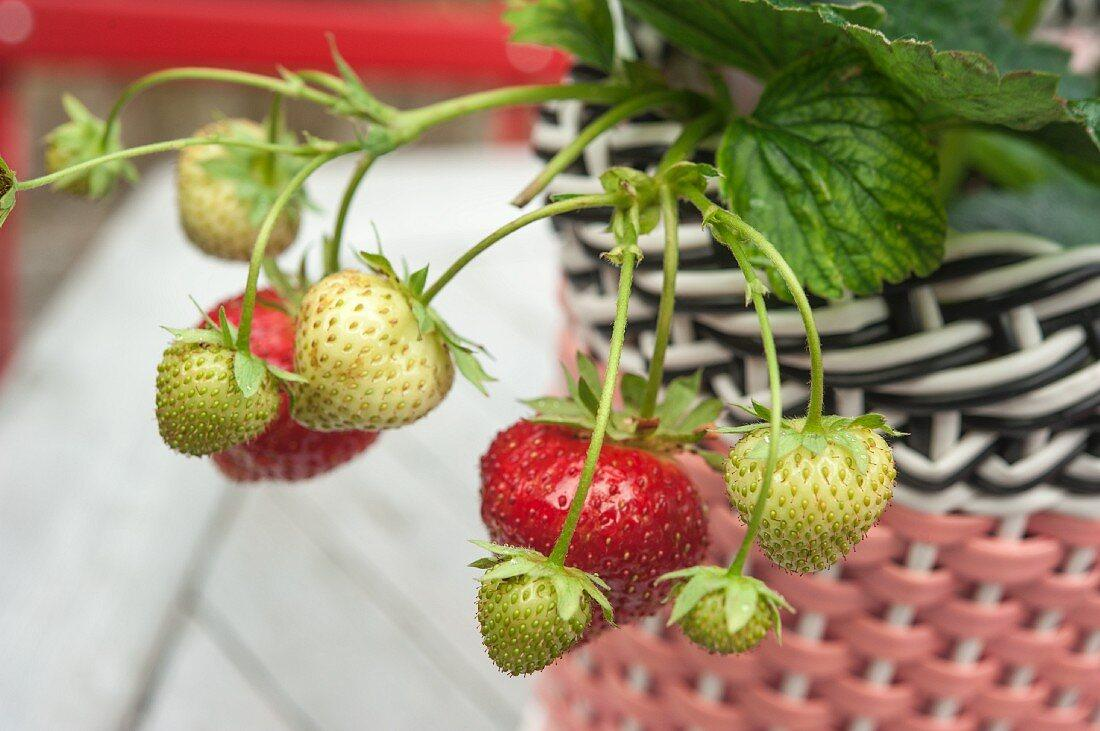straw-ripe: (481, 417, 709, 644), (198, 287, 381, 480)
straw-unripe: (728, 416, 894, 574), (296, 270, 453, 430), (177, 120, 301, 263), (157, 332, 278, 456), (479, 556, 589, 670), (684, 573, 773, 653)
